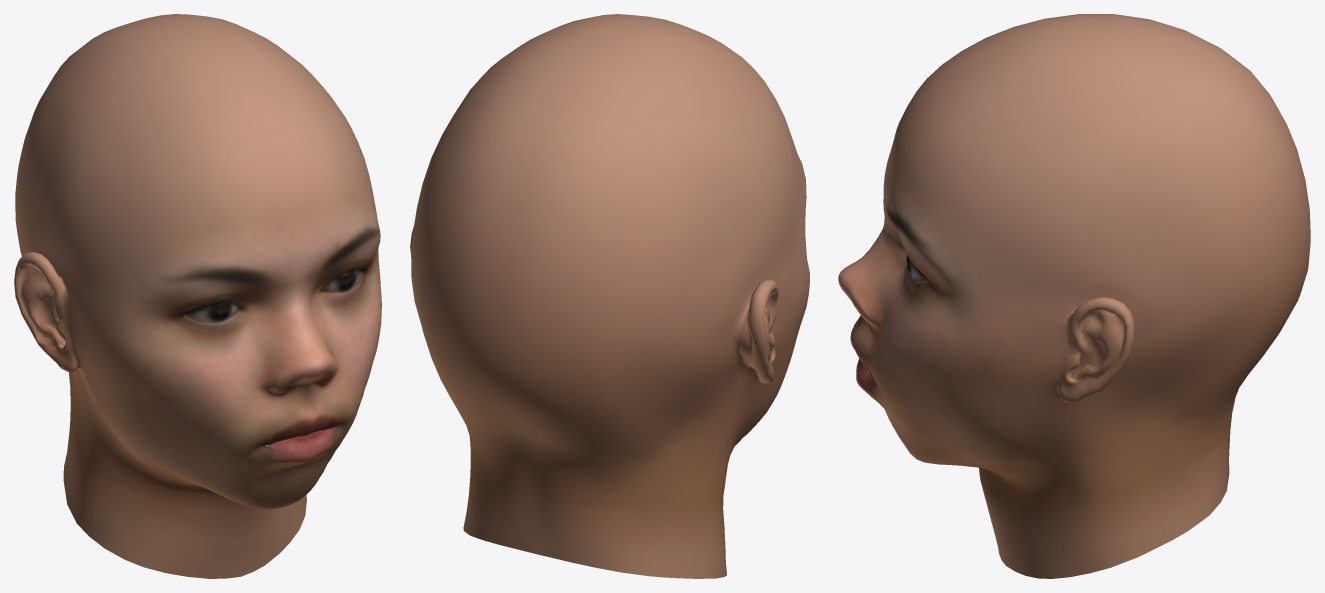
3 renders of one model, left to right at view 1: azimuth 30°, elevation 25°; view 2: azimuth 150°, elevation 25°; view 3: azimuth 270°, elevation 25°, orthographic. The views are drawn at different scales.
Visible parts, largest first — view 1: HeadHires; view 2: HeadHires; view 3: HeadHires.
Boxes of the visible parts, <box> form: HeadHires: <box>14,14,381,578</box>; HeadHires: <box>410,14,809,578</box>; HeadHires: <box>838,14,1310,578</box>.
Size of the model in its own units: 191 by 283 by 231.
1 material, 1 textured.
